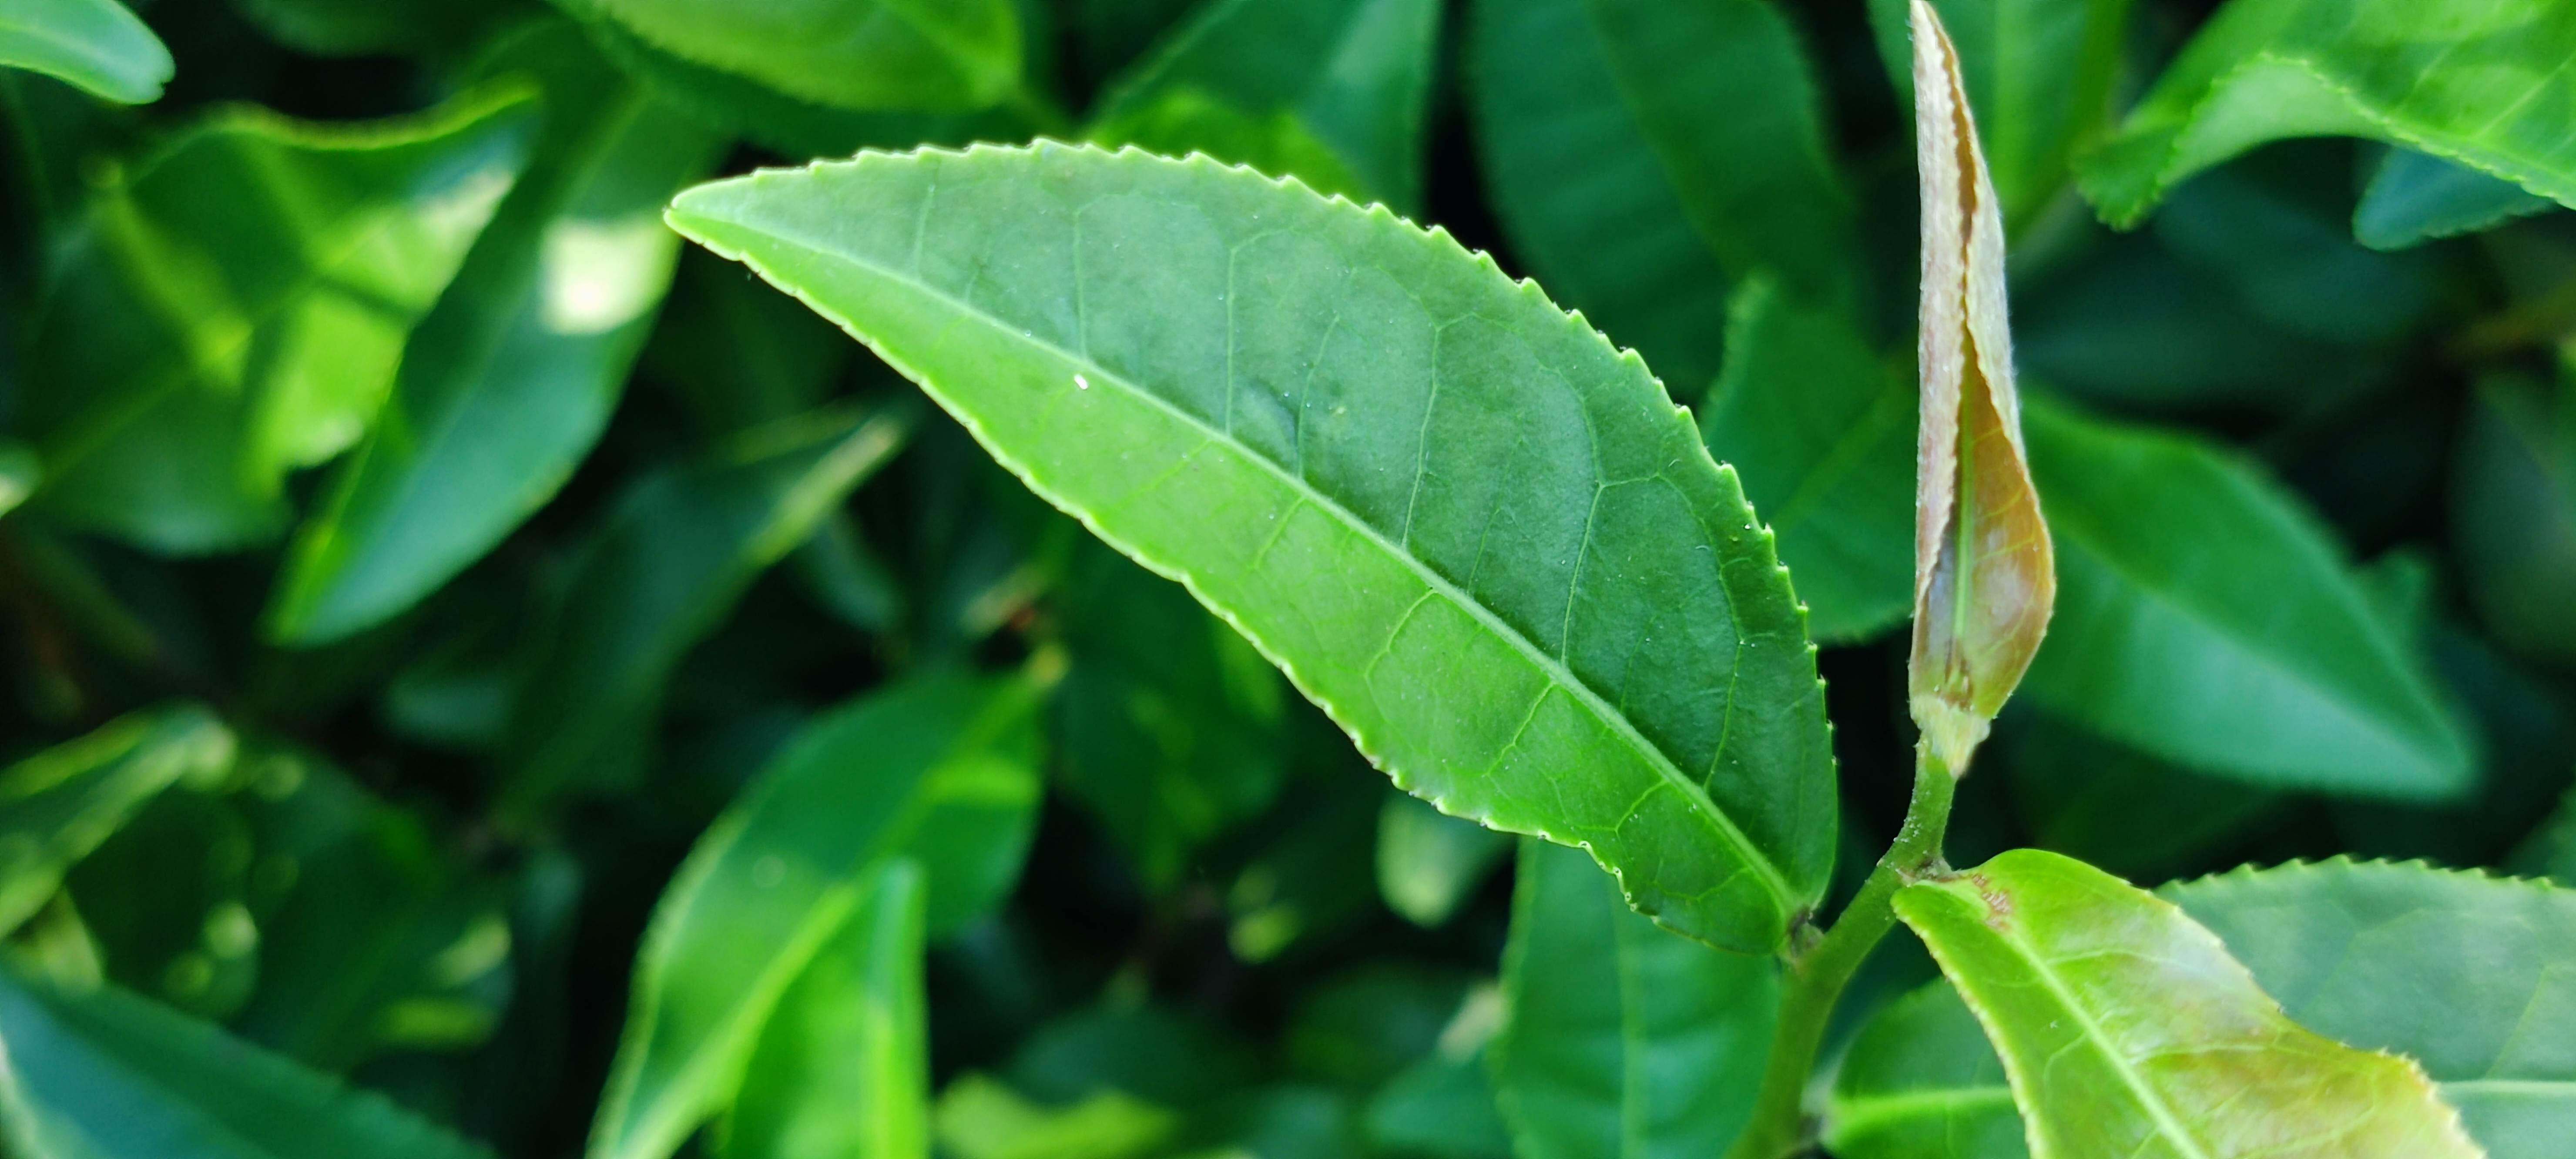healthy: (662, 133, 1850, 959)
tanju_low: (1889, 845, 2489, 1154), (1901, 2, 2062, 734)
